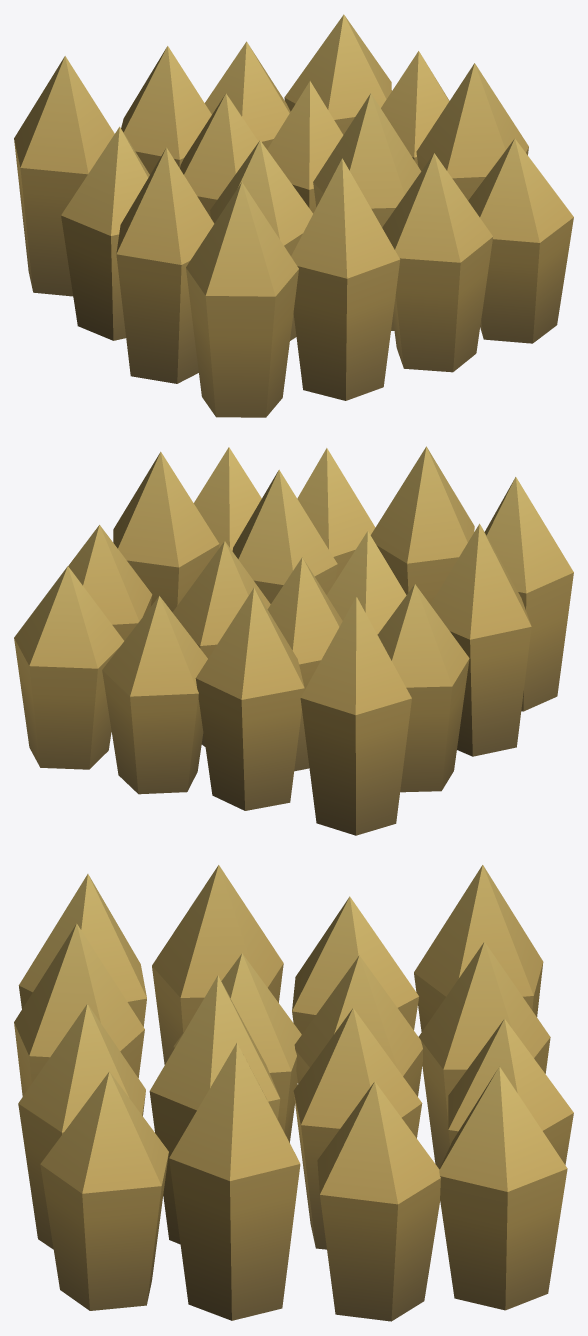
File: wheat_patch.glb
The picture shows the model from 3 angles, top to bottom: view 1: azimuth 30°, elevation 25°; view 2: azimuth 150°, elevation 25°; view 3: azimuth 270°, elevation 25°; orthographic projection. The views are drawn at different scales.
Parts seen in each view (by area): view 1: wheat_patch; view 2: wheat_patch; view 3: wheat_patch.
Part boxes in pixels (left/top/right/bottom): wheat_patch: left=14, top=14, right=573, bottom=417; wheat_patch: left=14, top=446, right=573, bottom=835; wheat_patch: left=14, top=865, right=573, bottom=1321.
Size of the model in its own units: 8.53 by 4.38 by 8.47.
Materials: 1 (1 with a texture image).
